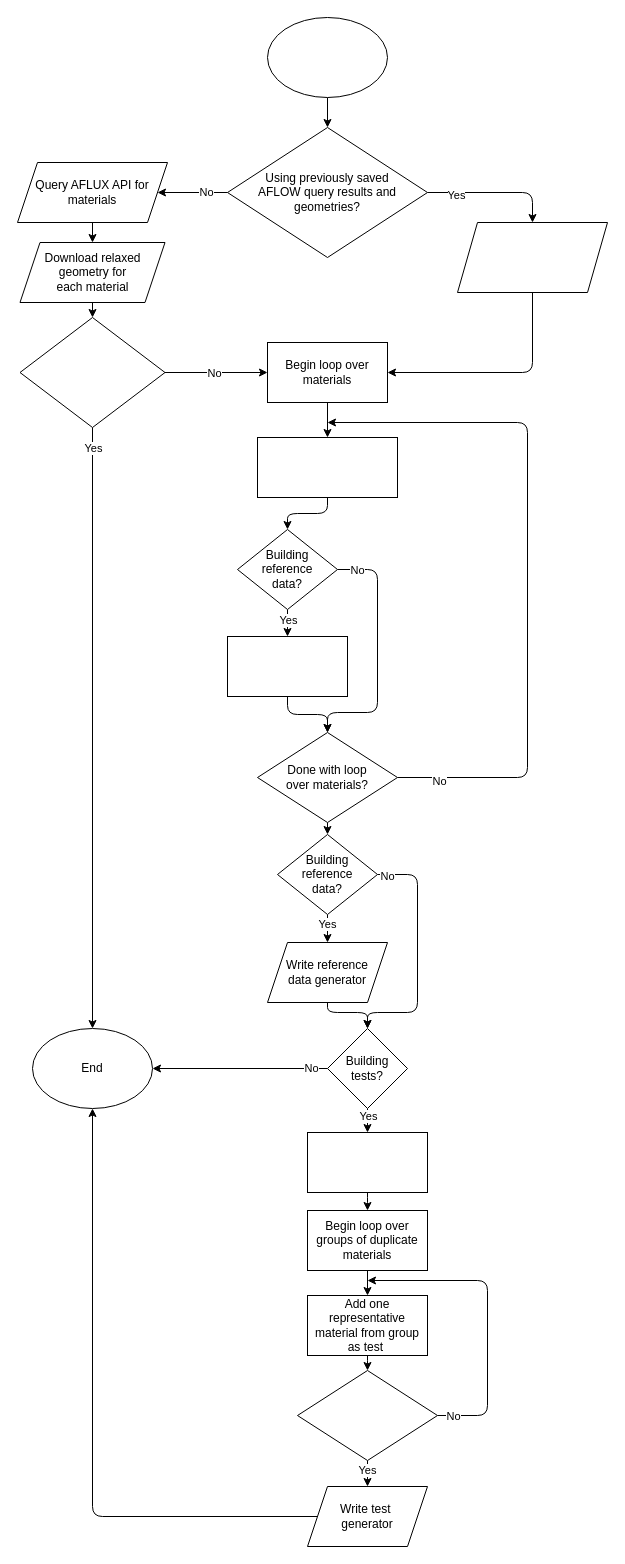
The diagram is 625 pixels wide and 1564 high, and some of its shapes have lost their labels. Each missing label, with the box of its shape:
Add material as reference data: (226, 636, 348, 696)
Detect AFLOW prototype from downloaded geometry for current material: (256, 436, 398, 498)
Done with loop over groups of materials?: (296, 1370, 438, 1460)
Query and download only, do not process?: (19, 316, 165, 428)
Read existing query results: (456, 222, 608, 292)
Start: (266, 16, 388, 98)
Use AFLOW to group duplicate sets of downloaded geometries: (306, 1132, 428, 1192)
